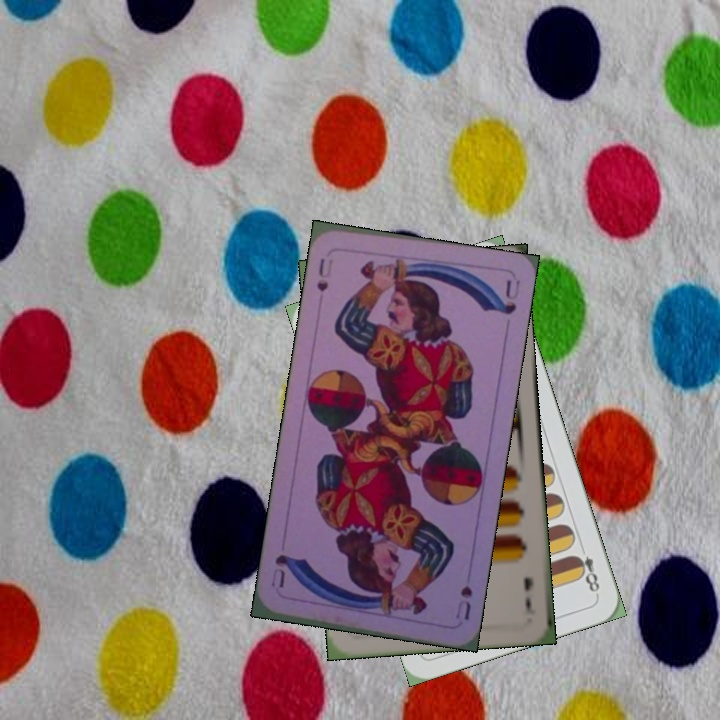E7: (519, 573, 538, 618)
E8: (570, 540, 603, 598)
SU: (451, 581, 475, 623), (313, 254, 336, 294)
